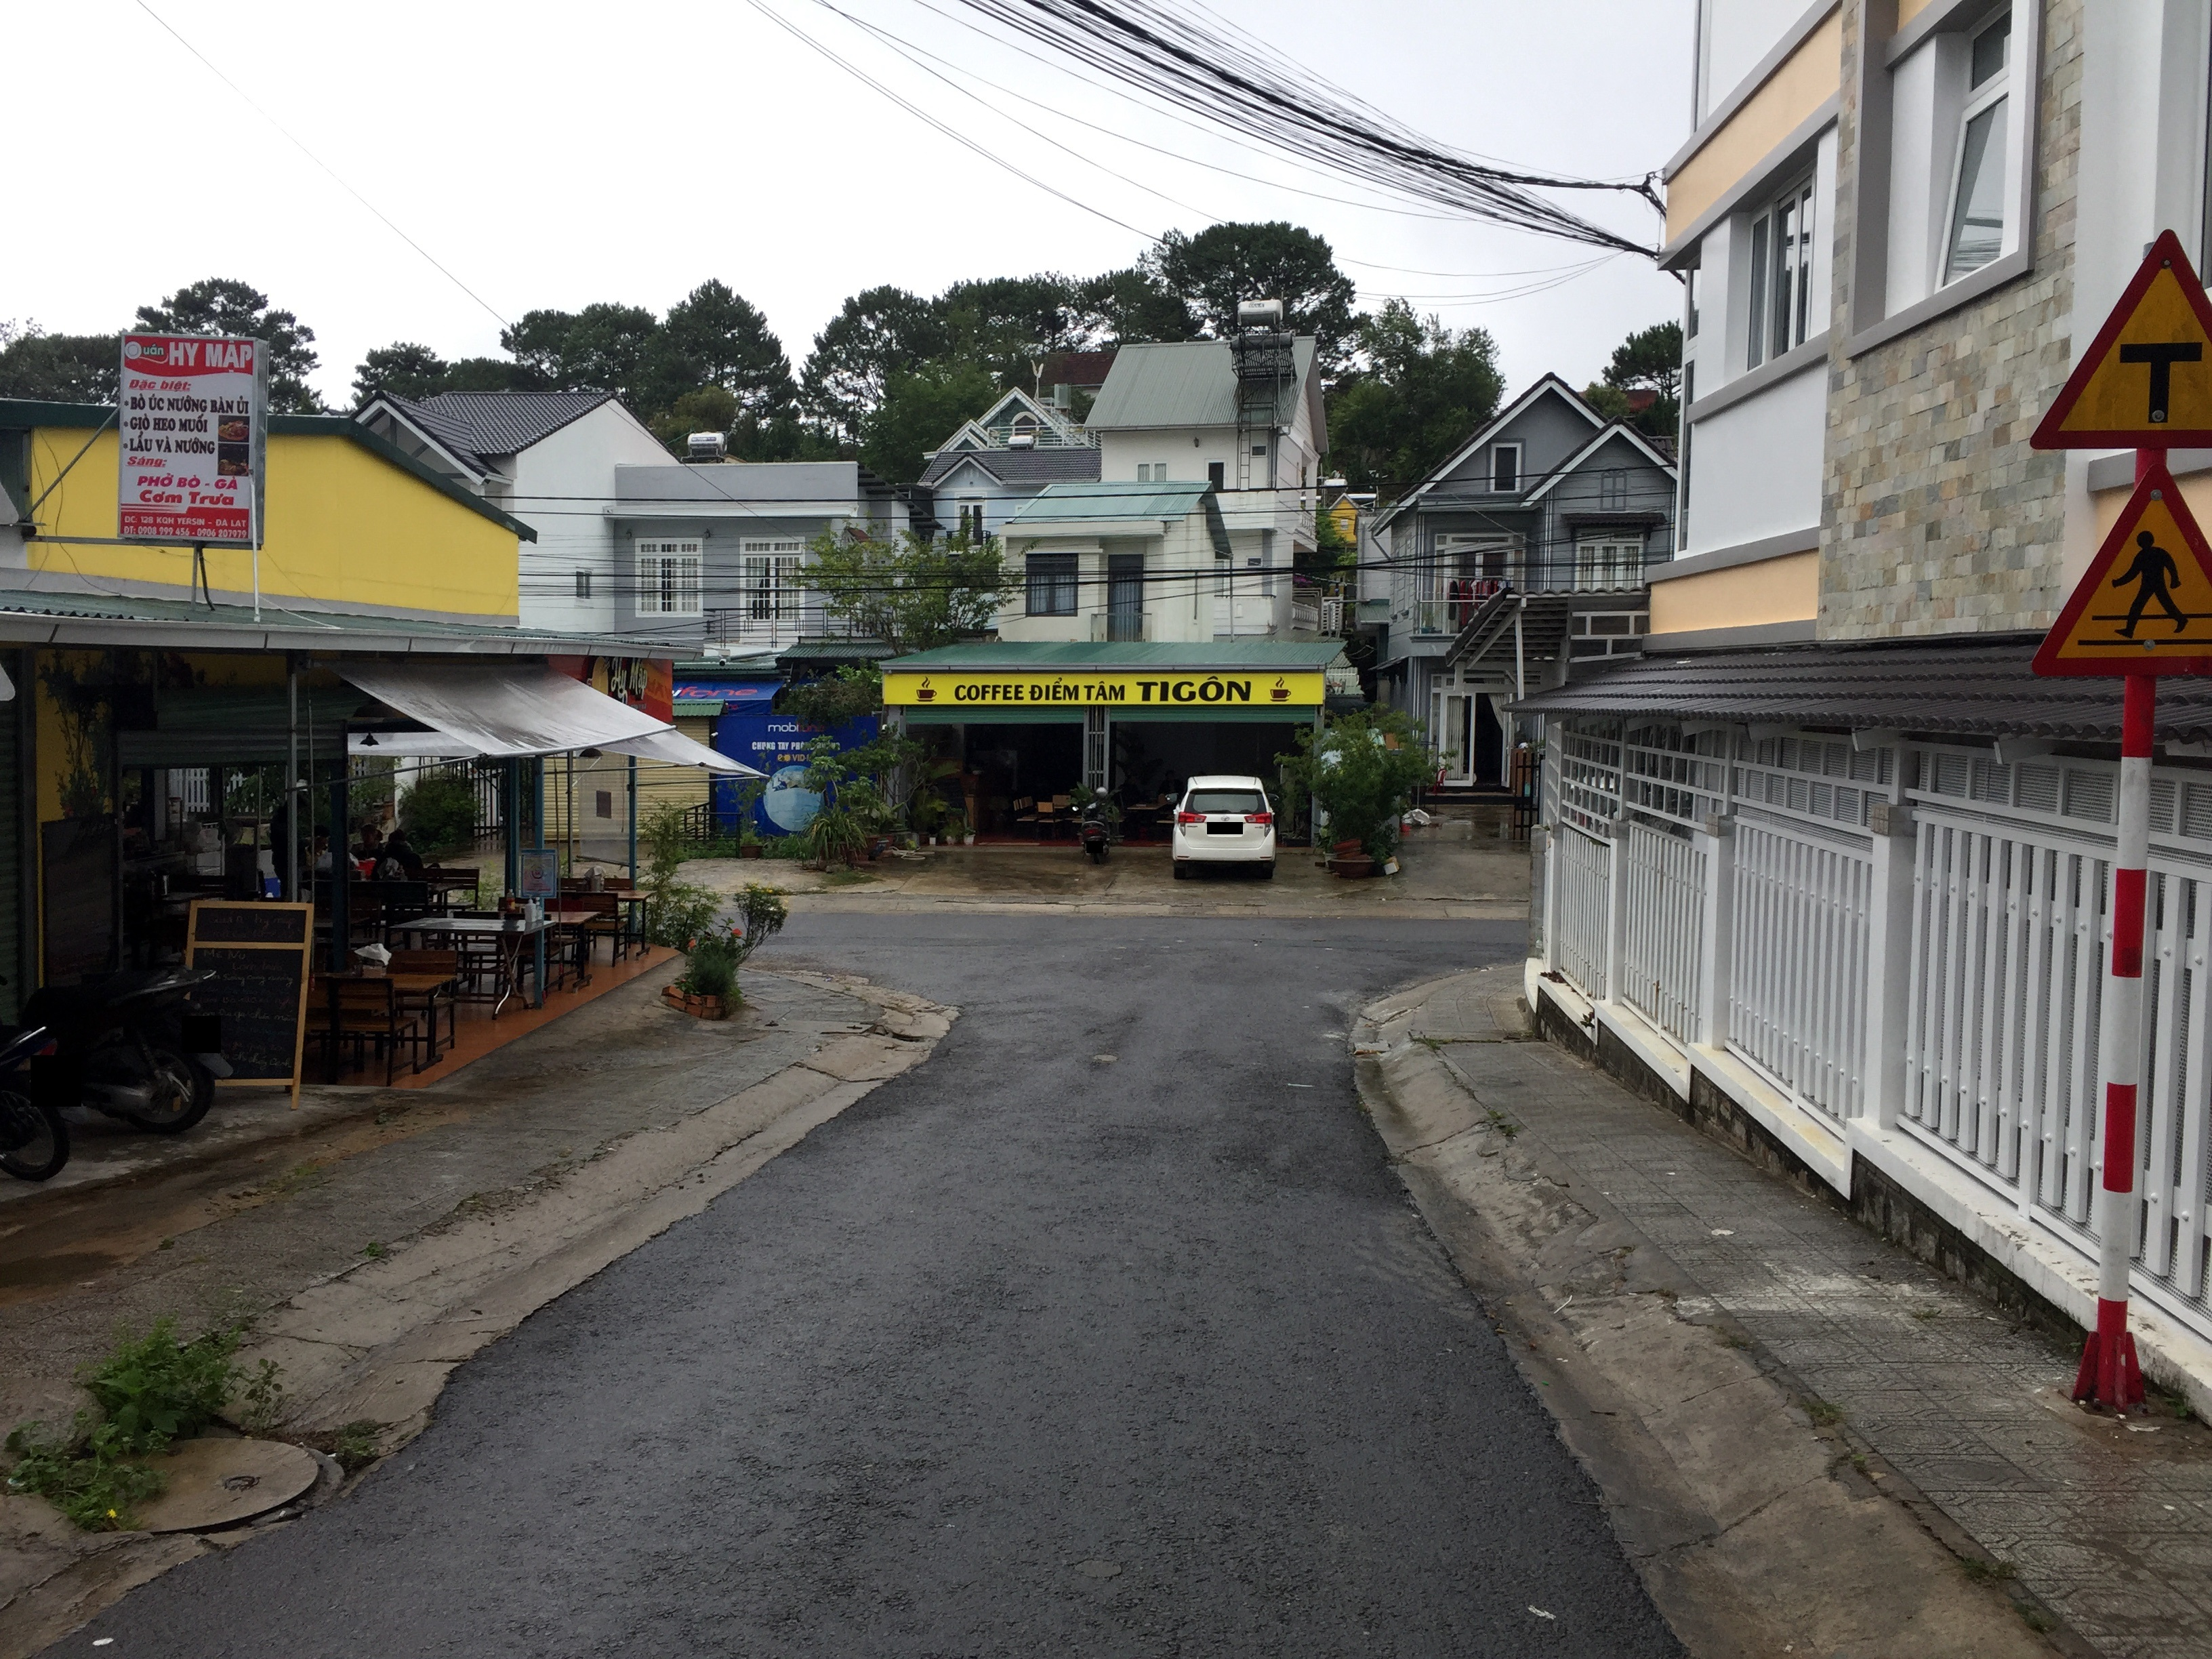hole: (312, 1422, 411, 1481), (1089, 1053, 1120, 1063)
